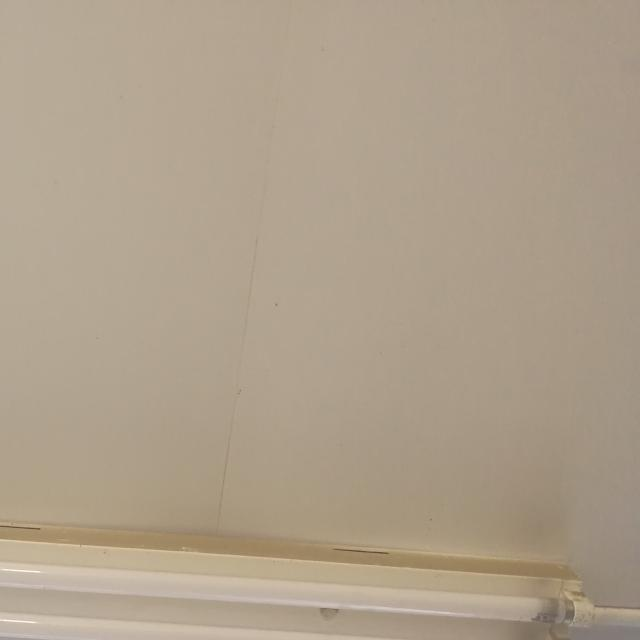fluorescent tube: (0, 443, 628, 640)
